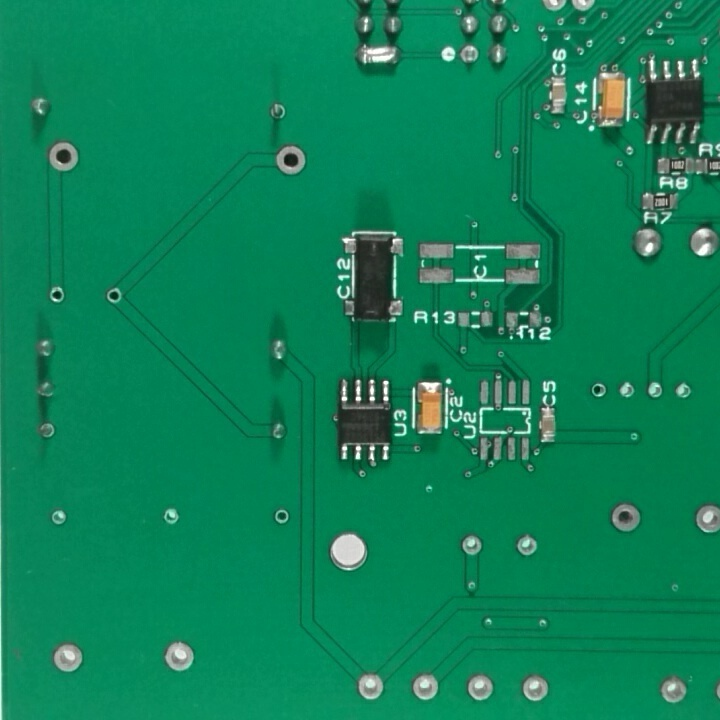F: (158, 638, 201, 675), (50, 638, 88, 677), (44, 137, 81, 175), (607, 501, 644, 537), (518, 669, 552, 705), (355, 667, 387, 705), (273, 143, 307, 178), (410, 669, 441, 706), (464, 672, 498, 705), (691, 501, 720, 538), (657, 673, 687, 708), (512, 532, 541, 563), (459, 529, 485, 563), (456, 42, 482, 66), (159, 505, 181, 530), (587, 379, 610, 402), (675, 380, 696, 405), (617, 378, 637, 403), (268, 99, 287, 124), (47, 283, 67, 306), (273, 505, 292, 529), (47, 507, 71, 526), (36, 420, 58, 440), (103, 286, 124, 306), (645, 380, 666, 400)
P: (351, 39, 404, 71)
